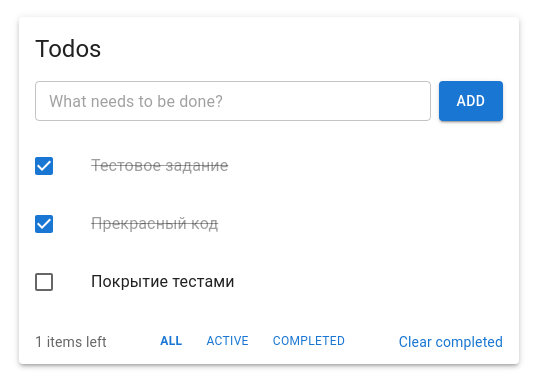
Scenario: Todo Component › filters tasks
This screenshot has width=539, height=386.
Click the button "Active" at (228, 342), box [198, 327, 257, 356]
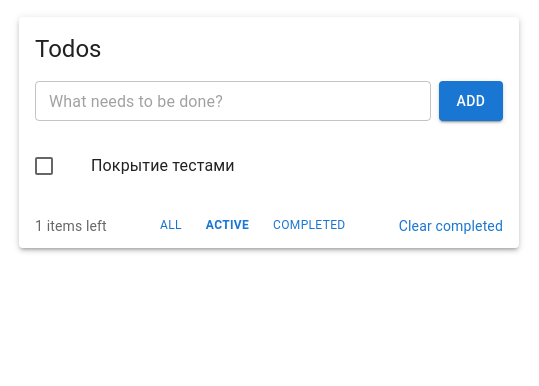
Expected: the text "Покрытие тестами" is shown, [91, 156, 235, 175]
Result: the button "Тестовое задание" is gone
Click the button "Completed" at (309, 226), box [265, 211, 354, 240]
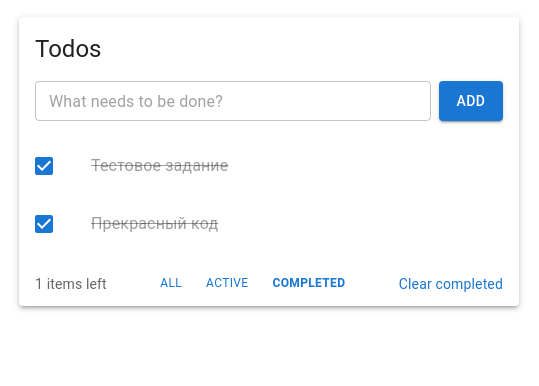
Result: the text "Тестовое задание" is shown at [91, 156, 228, 175]
Result: the button "Покрытие тестами" is gone
Click the button "All" at (171, 284), box [152, 269, 190, 298]
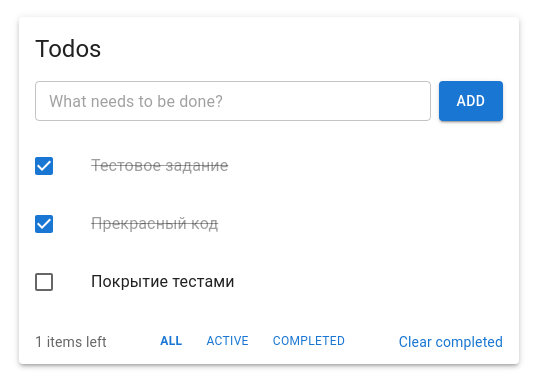
Result: the text "Тестовое задание" is shown at [91, 156, 228, 175]
Result: the text "Покрытие тестами" is shown at [91, 272, 235, 291]
